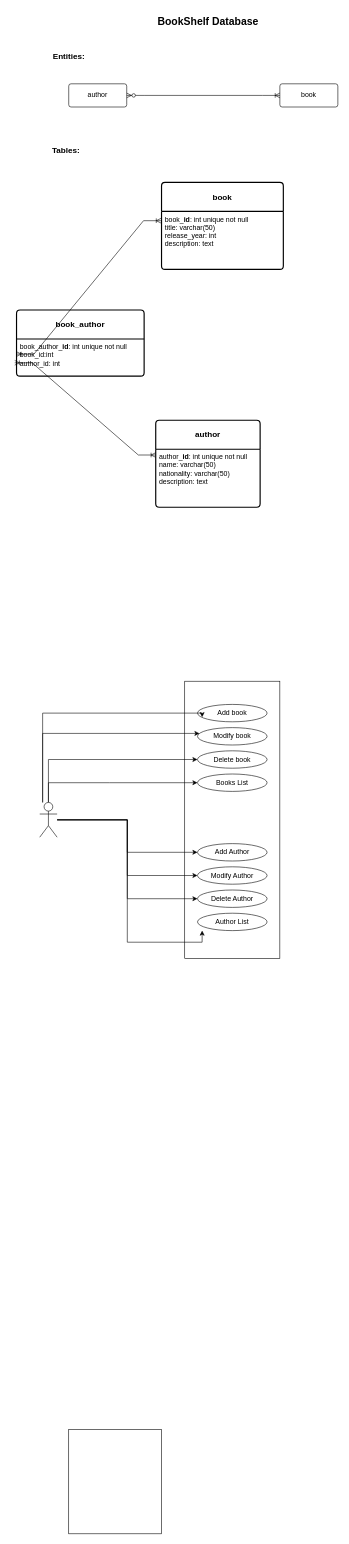
Some shapes in this 349 by 1544 pixel diagram are drawn without their labels. The centre of each missing label's shape, as x and y in pixels:
Book - id: int - + method(): Type: (x=115, y=1481)
Client: (x=48, y=819)
